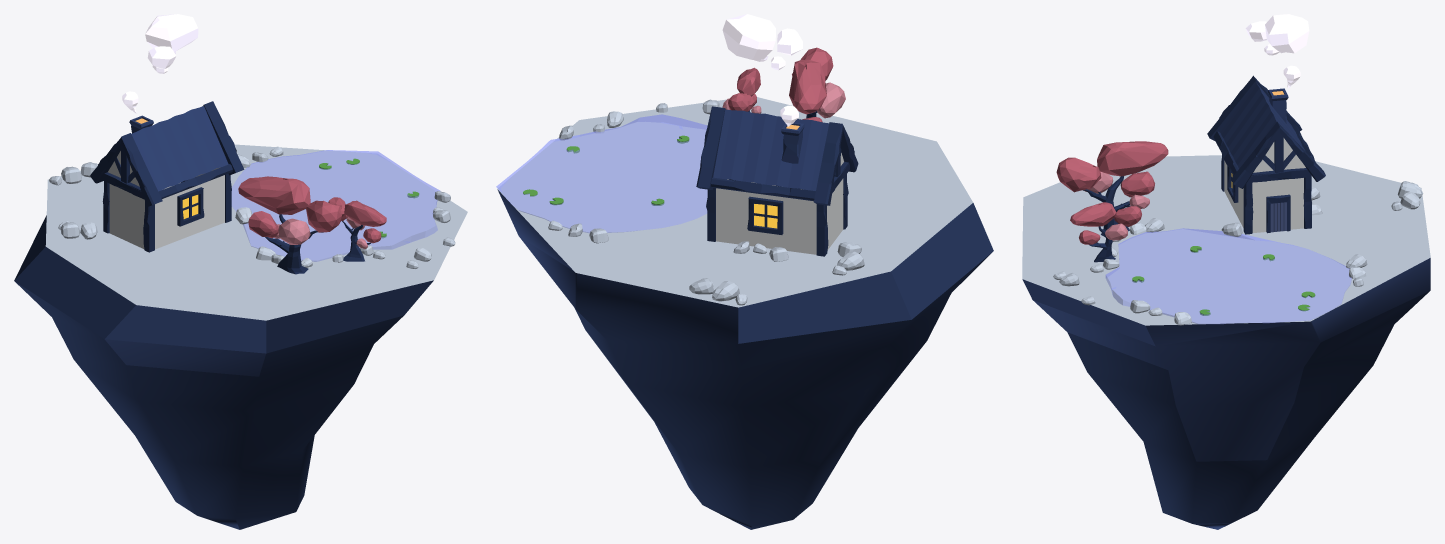
The model's file is ThesisNEW.glb.
The picture shows the model from 3 angles, left to right: view 1: azimuth 30°, elevation 25°; view 2: azimuth 150°, elevation 25°; view 3: azimuth 270°, elevation 25°; orthographic projection. The views are drawn at different scales.
Parts seen in each view (by area): view 1: ThesisPlatform, Pond, RoofBase, HouseBase, RoofChunks, BigBlossom.001, Sphere.004, HousePanles, BigBlossom, BigBlossom.003, SideRoofBeam, SmallBlossom (+4 smaller); view 2: ThesisPlatform, Pond, RoofBase, HouseBase, RoofChunks, Sphere.004, BigBlossom.001, HousePanles, SideRoofBeam, Chimney, Windowframe, SmallBlossom (+1 smaller); view 3: ThesisPlatform, Pond, HouseBase, RoofBase, RoofChunks, BigBlossom.001, Sphere.004, BigBlossom, HousePanles, FaceRoofPlus, BigBlossom.003, Icosphere.001 (+2 smaller).
Part boxes in pixels (bbox=[...]): ThesisPlatform: bbox=[14, 144, 467, 529]; Pond: bbox=[231, 150, 440, 261]; RoofBase: bbox=[131, 106, 228, 191]; HouseBase: bbox=[108, 151, 224, 249]; RoofChunks: bbox=[90, 101, 244, 206]; BigBlossom.001: bbox=[238, 176, 310, 214]; Sphere.004: bbox=[145, 14, 198, 51]; HousePanles: bbox=[102, 173, 231, 252]; BigBlossom: bbox=[306, 200, 341, 232]; BigBlossom.003: bbox=[344, 200, 386, 226]; SideRoofBeam: bbox=[158, 164, 232, 198]; SmallBlossom: bbox=[278, 218, 310, 244]; ThesisPlatform: bbox=[497, 97, 993, 529]; Pond: bbox=[496, 114, 707, 233]; RoofBase: bbox=[713, 109, 829, 190]; HouseBase: bbox=[716, 153, 843, 254]; RoofChunks: bbox=[696, 106, 858, 205]; Sphere.004: bbox=[722, 14, 775, 59]; BigBlossom.001: bbox=[789, 59, 826, 114]; HousePanles: bbox=[706, 174, 848, 256]; SideRoofBeam: bbox=[711, 177, 815, 201]; Chimney: bbox=[781, 122, 804, 163]; Windowframe: bbox=[747, 196, 783, 234]; SmallBlossom: bbox=[817, 82, 845, 118]; ThesisPlatform: bbox=[1022, 155, 1430, 529]; Pond: bbox=[1105, 228, 1351, 324]; HouseBase: bbox=[1224, 138, 1305, 232]; RoofBase: bbox=[1220, 82, 1305, 168]; RoofChunks: bbox=[1207, 75, 1325, 188]; BigBlossom.001: bbox=[1097, 141, 1168, 176]; Sphere.004: bbox=[1265, 14, 1309, 53]; BigBlossom: bbox=[1056, 157, 1101, 192]; HousePanles: bbox=[1221, 155, 1311, 234]; FaceRoofPlus: bbox=[1247, 133, 1311, 182]; BigBlossom.003: bbox=[1070, 202, 1116, 226]; Icosphere.001: bbox=[1120, 171, 1154, 197].
Bounding box in the file's own units: 32.48 × 40.77 × 30.44.
